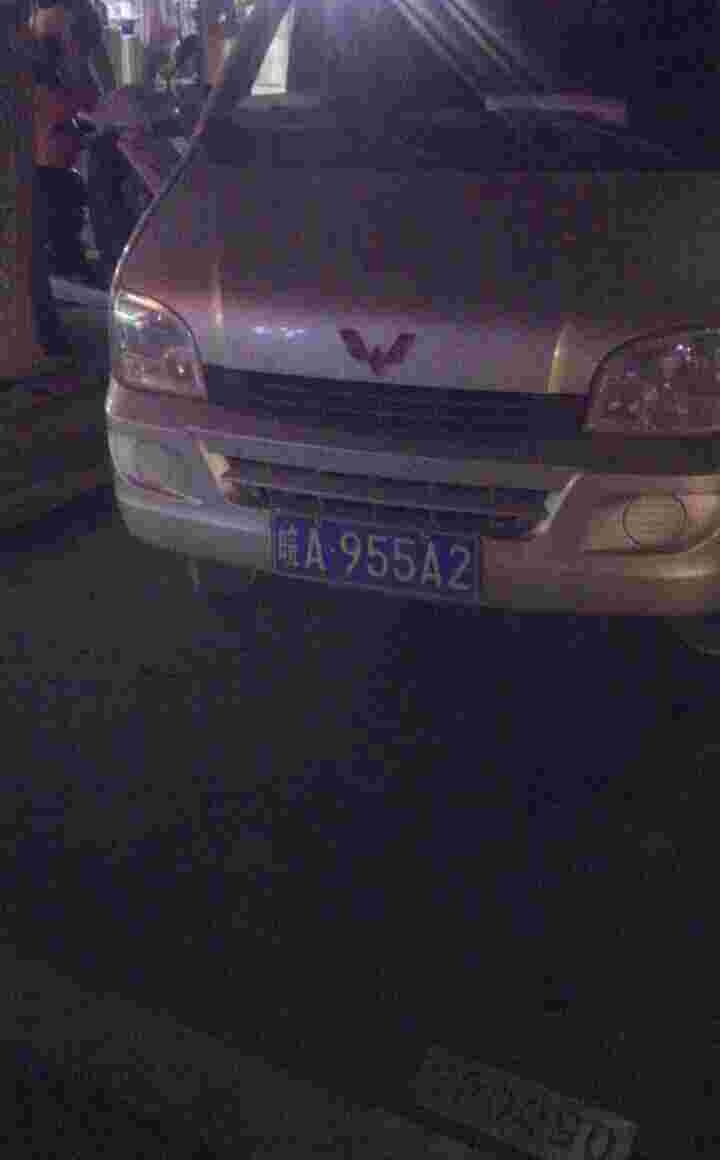license_plate: (253, 511, 485, 595)
